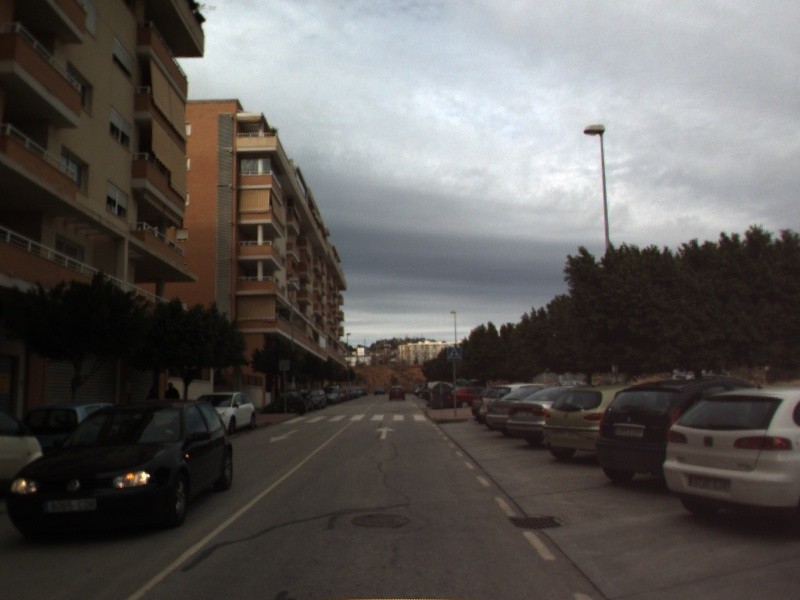STRAIGHT: (374, 425, 397, 441)
